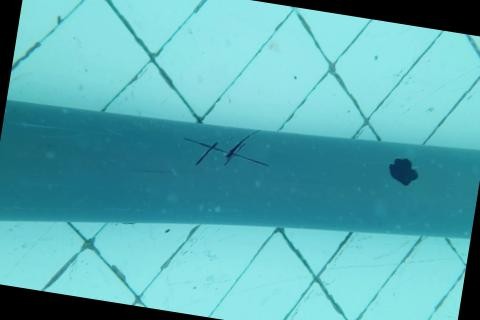kebocoran: (385, 153, 421, 188)
keretakan: (177, 119, 276, 175)
